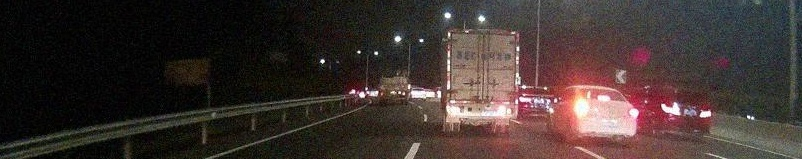L_light: (661, 102, 681, 116), (574, 103, 590, 117), (448, 106, 464, 113)
R_light: (699, 104, 711, 118), (627, 107, 639, 119), (498, 107, 513, 114)
T_light: (597, 95, 611, 101), (478, 31, 491, 35), (684, 93, 693, 96)
night-left: (571, 85, 640, 146)
night-no: (444, 29, 519, 136), (658, 89, 713, 140)
